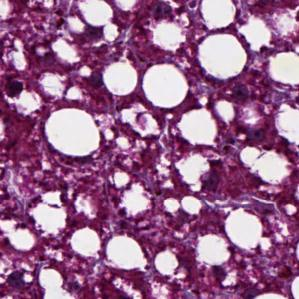steatosis: (45, 105, 99, 159), (195, 31, 249, 82), (141, 58, 190, 110), (100, 60, 141, 97)
